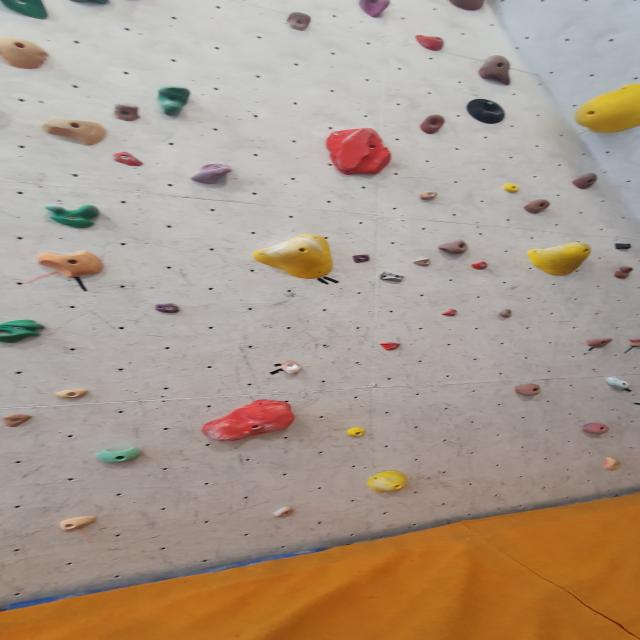Crimp: (56, 516, 99, 534), (110, 150, 144, 166), (0, 414, 34, 429), (56, 388, 92, 400), (154, 304, 183, 316), (272, 508, 298, 519), (500, 182, 521, 195), (344, 427, 368, 438), (377, 342, 402, 352), (467, 262, 489, 273), (350, 253, 371, 264), (411, 258, 434, 268), (441, 308, 462, 318)
Jug: (42, 204, 102, 230), (153, 86, 195, 118), (476, 56, 516, 88), (0, 0, 52, 19), (354, 0, 392, 19), (282, 10, 312, 31), (418, 113, 448, 134), (111, 101, 140, 122), (440, 0, 486, 13), (571, 171, 600, 191), (436, 240, 471, 256), (520, 199, 552, 216), (579, 422, 613, 436), (585, 336, 616, 351), (514, 383, 544, 398), (274, 360, 302, 375), (613, 267, 637, 281), (497, 308, 517, 318), (627, 338, 640, 350)
Pinch: (37, 119, 110, 147), (36, 250, 106, 278), (1, 36, 54, 71), (189, 163, 234, 187), (94, 448, 144, 466), (410, 34, 446, 53), (378, 272, 406, 285), (600, 457, 622, 473), (416, 190, 439, 200), (613, 240, 635, 249), (614, 243, 634, 251)
Pocket: (458, 96, 514, 127), (0, 320, 46, 345)
Sloper: (248, 232, 337, 282), (198, 400, 299, 444), (568, 80, 638, 138), (321, 129, 395, 179), (524, 241, 594, 279), (366, 468, 409, 494)
